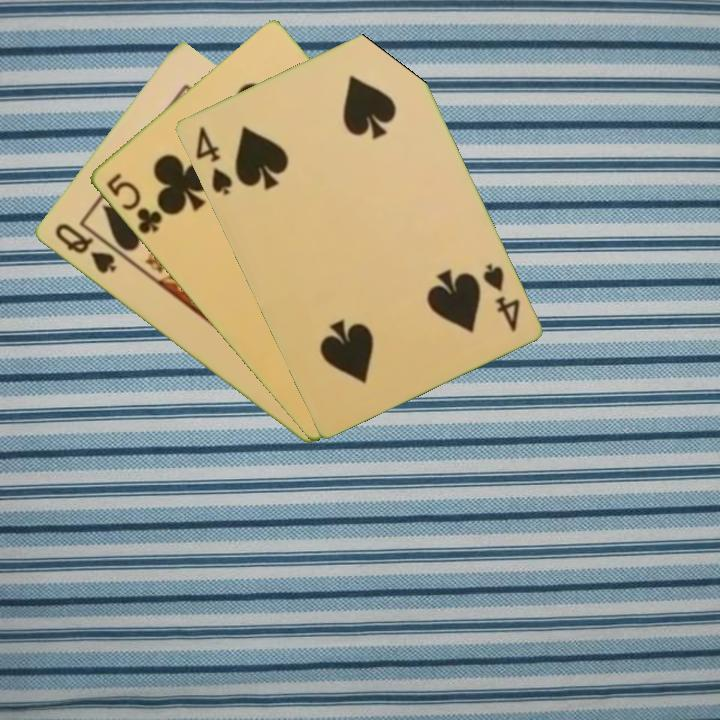4s: (478, 260, 523, 335), (191, 122, 235, 198)
5c: (102, 169, 165, 237)
Qs: (50, 219, 119, 277)
